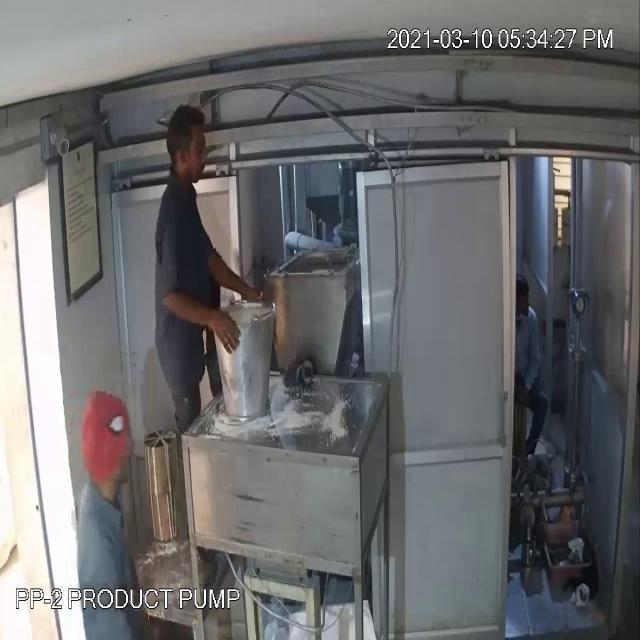No_Gloves: (82, 89, 240, 320)
